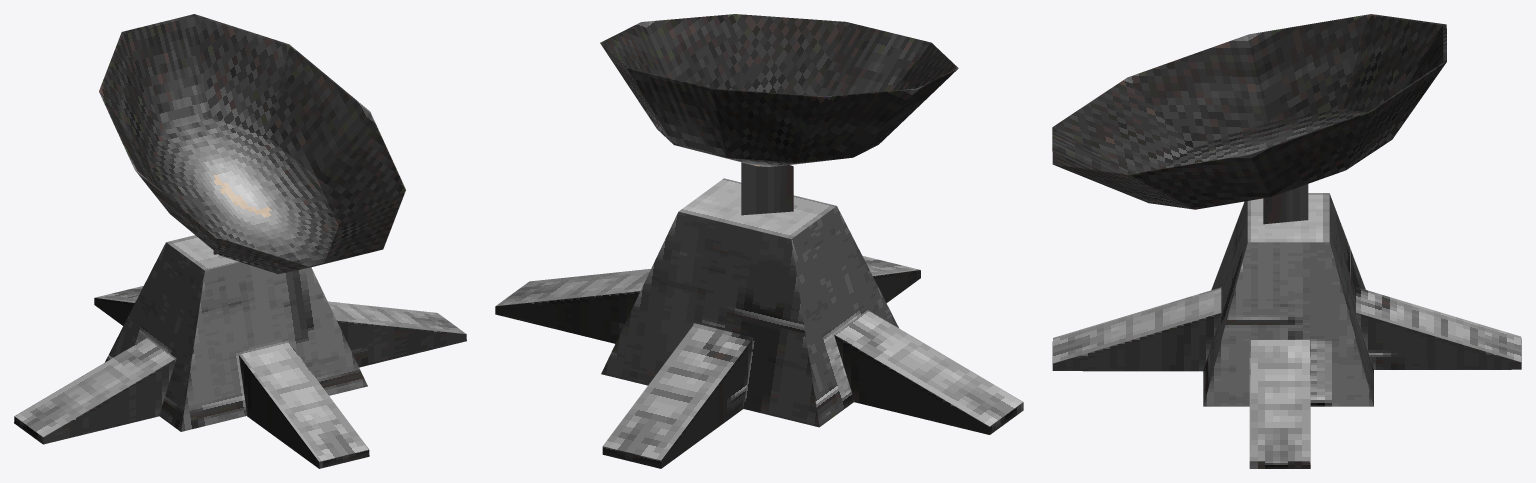
The model's file is commlow0.obj.
3 renders of one model, left to right at view 1: azimuth 30°, elevation 25°; view 2: azimuth 150°, elevation 25°; view 3: azimuth 270°, elevation 25°, orthographic. The views are drawn at different scales.
Size of the model in its own units: 14.15 by 9.63 by 12.96.
Materials: 7 (7 with a texture image).
